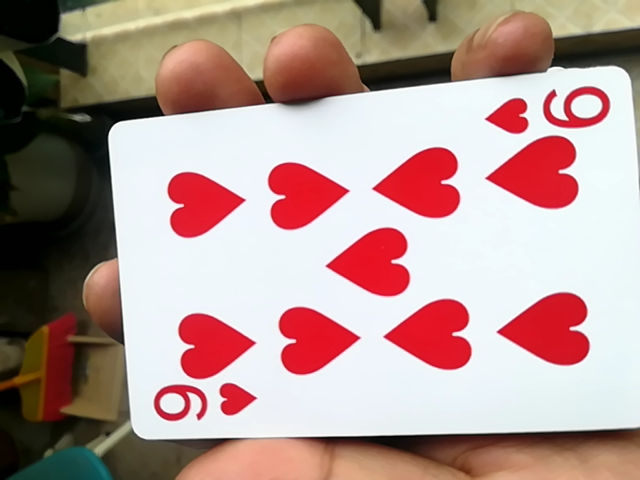hx 9: (102, 85, 633, 454)
